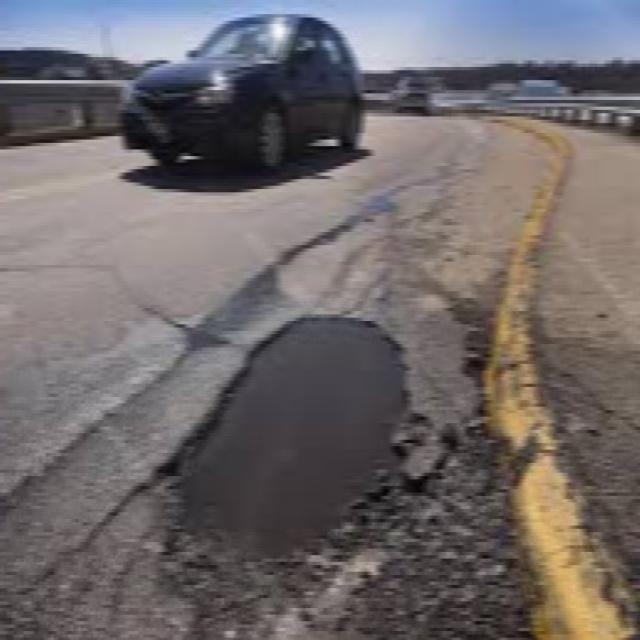Pothole: (144, 300, 445, 581)
